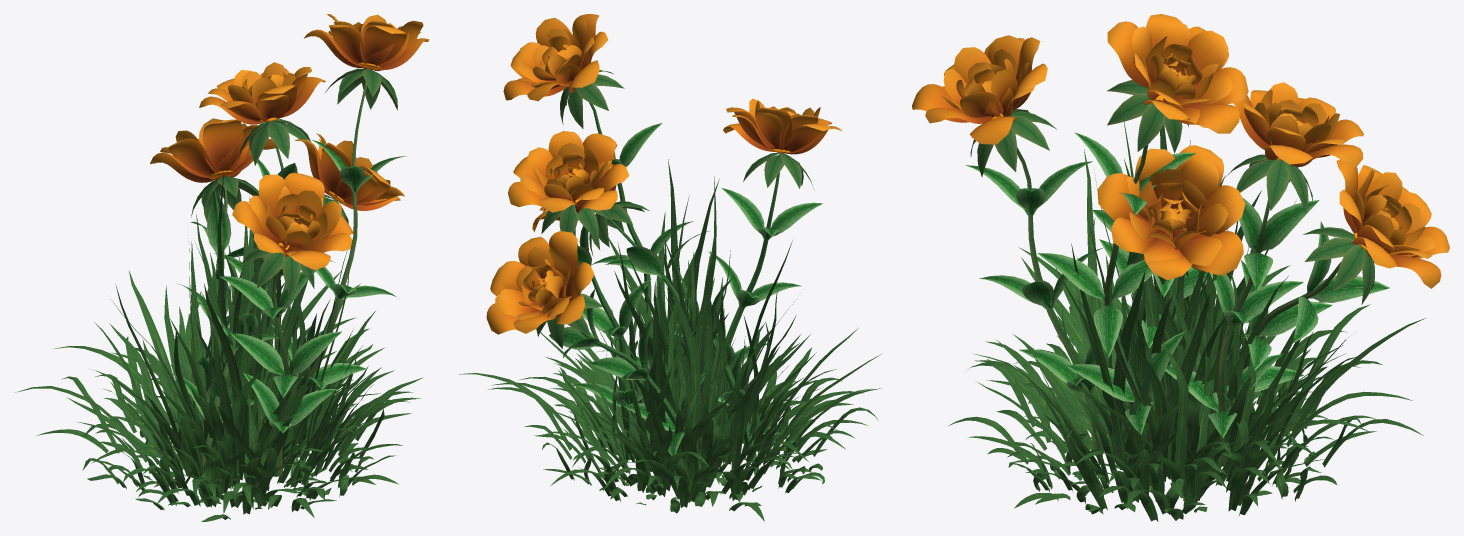
File: flower.glb
3 renders of one model, left to right at view 1: azimuth 30°, elevation 25°; view 2: azimuth 150°, elevation 25°; view 3: azimuth 270°, elevation 25°, orthographic. The views are drawn at different scales.
Visible parts, largest first — view 1: Roses_Orange; view 2: Roses_Orange; view 3: Roses_Orange.
Part boxes in pixels (x1,y1,x2,y2): Roses_Orange: (15,14,429,521); Roses_Orange: (459,14,882,521); Roses_Orange: (912,14,1449,521).
Bounding box in the file's own units: 94.93 × 107 × 102.
Materials: 5 (5 with a texture image).
